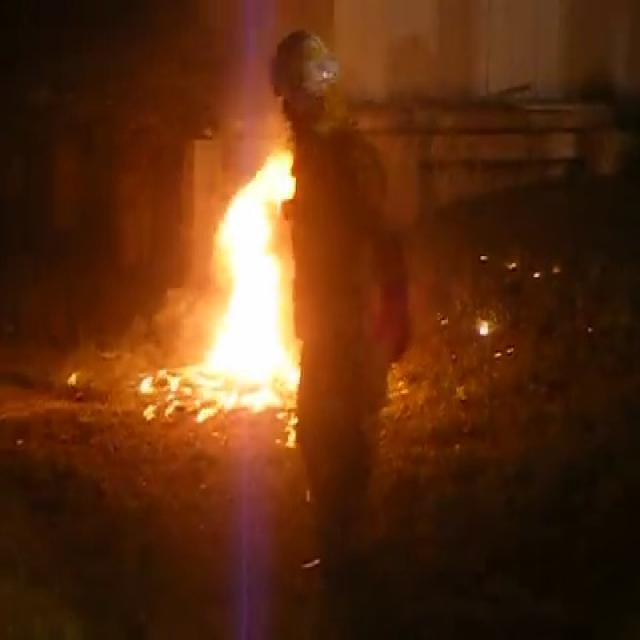Fire: (141, 130, 318, 416)
